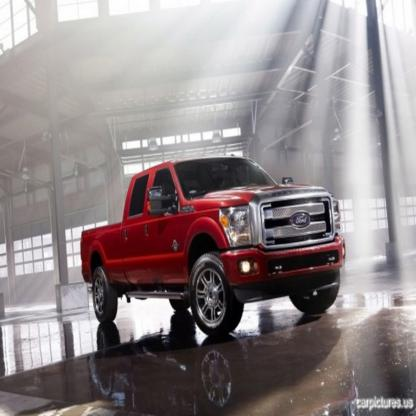Truck: (80, 153, 345, 336)
